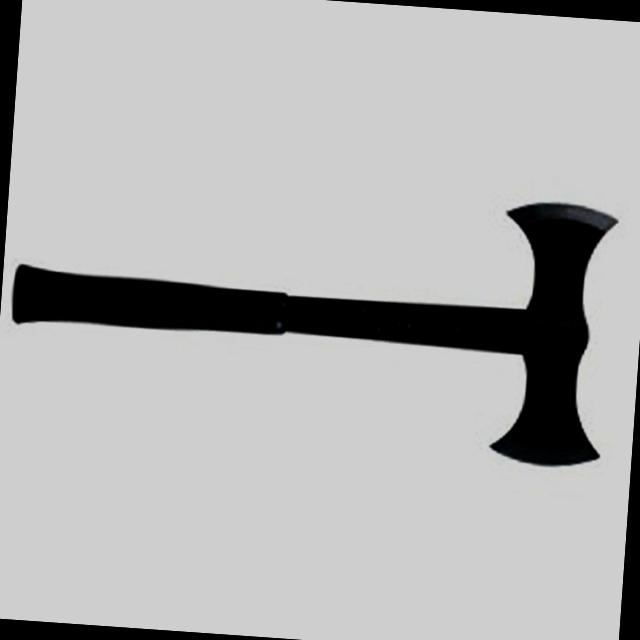ax: (0, 156, 625, 474)
